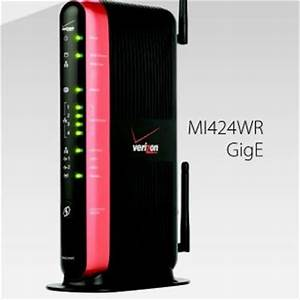Verizon Router: (47, 1, 195, 291)
